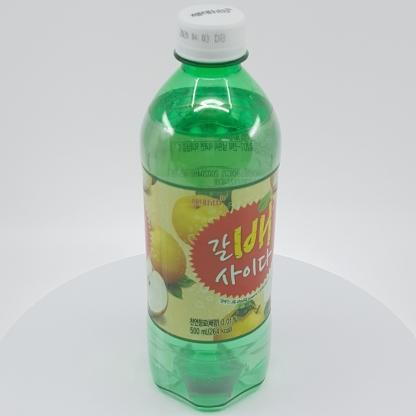-------500ML: (139, 3, 282, 410)
